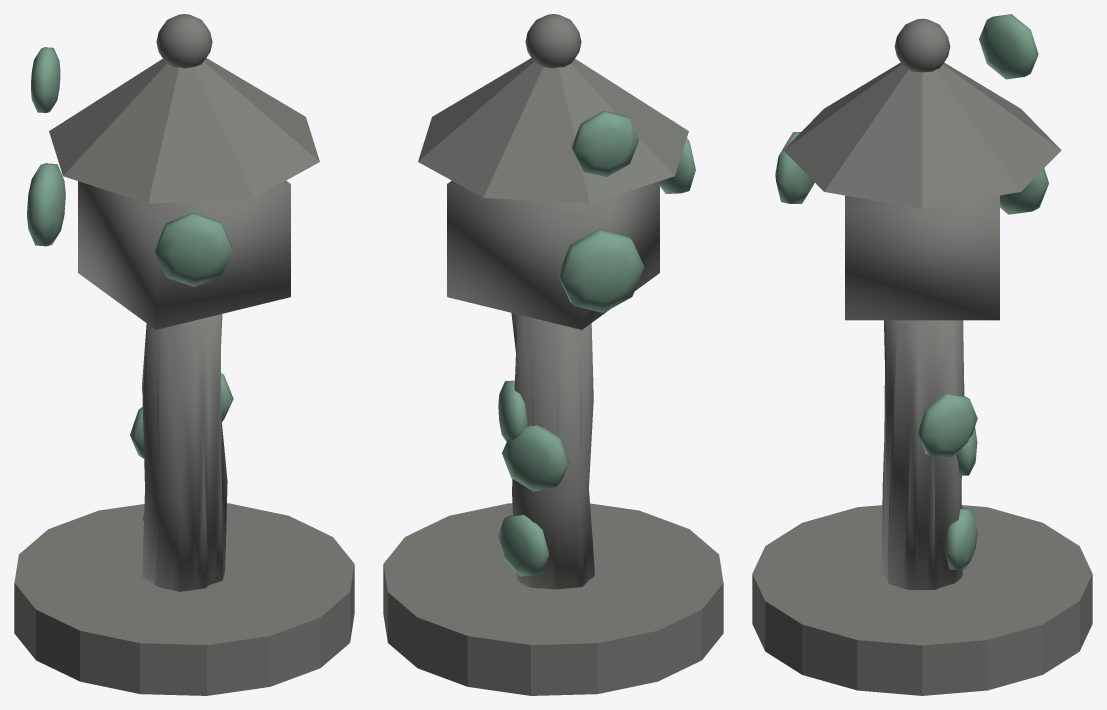
Rendered from moss_lantern_b.glb.
3 renders of one model, left to right at view 1: azimuth 30°, elevation 25°; view 2: azimuth 150°, elevation 25°; view 3: azimuth 270°, elevation 25°, orthographic.
Visible parts, largest first — view 1: MossLantern; view 2: MossLantern; view 3: MossLantern.
Part boxes in pixels (<box>): MossLantern: <box>14,14,354,695</box>; MossLantern: <box>383,14,723,695</box>; MossLantern: <box>752,14,1092,695</box>.
Size of the model in its own units: 1.1 by 2.15 by 1.1.
